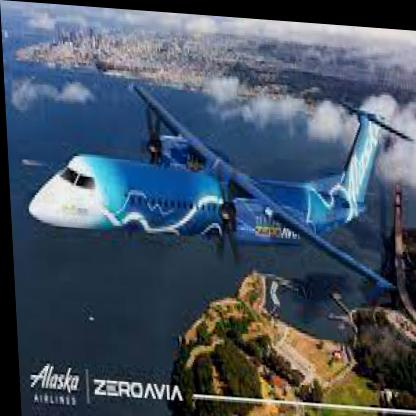Aircraft: (19, 77, 415, 288)
